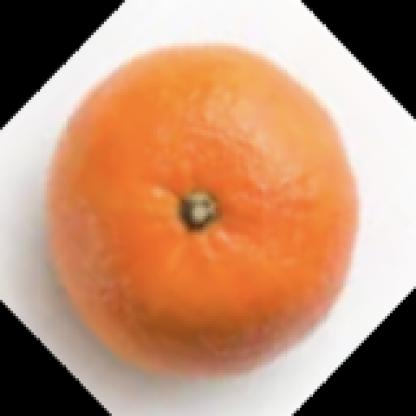fresh: (45, 47, 357, 376)
